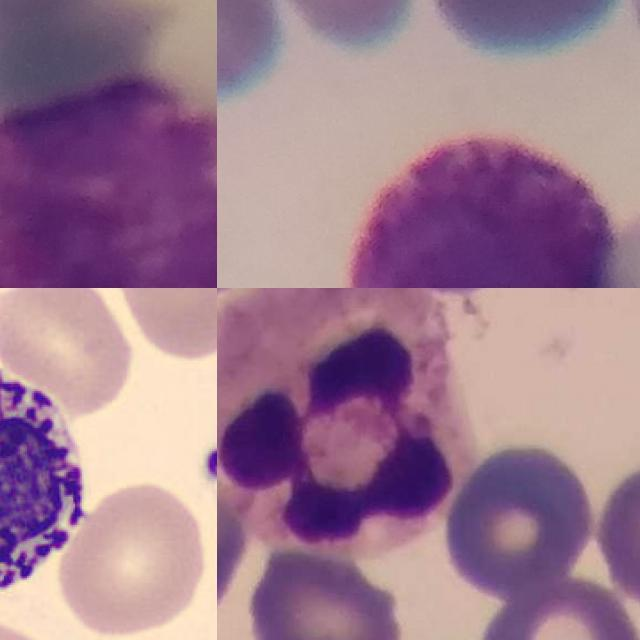Basophil: (0, 76, 217, 288), (346, 133, 619, 288), (0, 345, 98, 620)
Neutrophil: (217, 288, 465, 555)
Platelets: (195, 438, 217, 486)
RBC: (52, 475, 214, 640), (0, 288, 137, 417), (119, 288, 217, 362)
